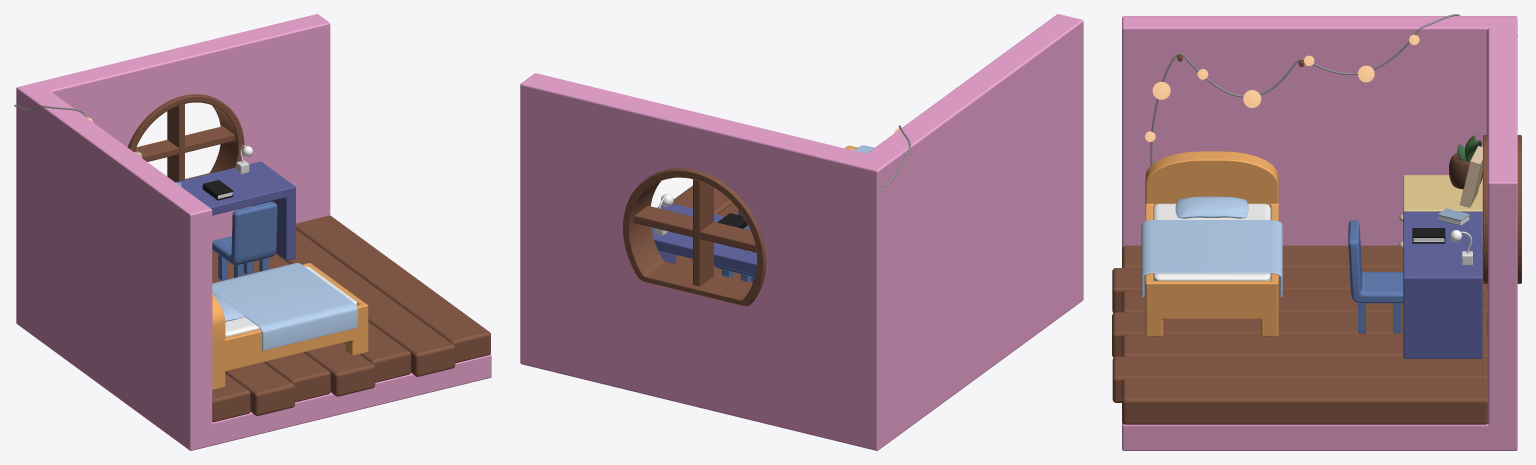
Rendered from myFirstBlender.glb.
3 renders of one model, left to right at view 1: azimuth 30°, elevation 25°; view 2: azimuth 150°, elevation 25°; view 3: azimuth 270°, elevation 25°, orthographic. The views are drawn at different scales.
Visible parts, largest first — view 1: Room, Floor, Cube.005, Bed, Desk, Chair, Window2.001, Desk.003, Desk.001, Cube.004, Desk.002; view 2: Room, Window2.001, Desk.003, Desk, Desk.001, Floor; view 3: Room, Floor, Bed, Desk, Cube.005, Chair, Drawer, Cube.004, Cube.007, Window2.001, Book, BezierCurve.001 (+3 smaller).
Part boxes in pixels (<box>): Room: <box>16,14,491,450</box>; Floor: <box>212,215,490,422</box>; Cube.005: <box>212,262,357,350</box>; Bed: <box>212,263,368,389</box>; Desk: <box>175,161,295,260</box>; Chair: <box>212,201,277,265</box>; Window2.001: <box>127,94,244,179</box>; Desk.003: <box>135,126,235,161</box>; Desk.001: <box>167,104,184,182</box>; Cube.004: <box>212,266,357,337</box>; Desk.002: <box>218,254,268,280</box>; Room: <box>520,14,1083,450</box>; Window2.001: <box>623,168,766,306</box>; Desk.003: <box>633,206,756,252</box>; Desk: <box>651,204,756,277</box>; Desk.001: <box>693,179,713,286</box>; Floor: <box>672,185,740,279</box>; Room: <box>1122,16,1517,450</box>; Floor: <box>1112,245,1487,424</box>; Bed: <box>1145,151,1278,336</box>; Desk: <box>1403,211,1482,358</box>; Cube.005: <box>1141,220,1282,296</box>; Chair: <box>1348,220,1403,303</box>; Drawer: <box>1403,175,1482,212</box>; Cube.004: <box>1153,203,1270,280</box>; Cube.007: <box>1175,196,1248,218</box>; Window2.001: <box>1483,135,1521,283</box>; Book: <box>1412,208,1470,243</box>; BezierCurve.001: <box>1150,14,1517,164</box>.
Size of what is drawn, in the model's own units: 4.03 by 3.03 by 4.14.
